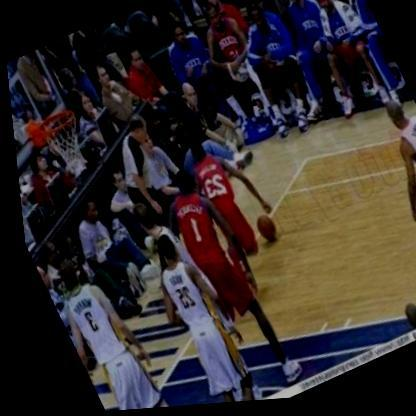basketball: (243, 210, 276, 248), (383, 300, 416, 338)
rim: (24, 102, 100, 186)
